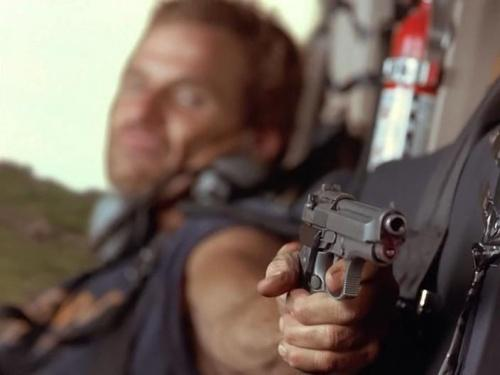Gun: (295, 184, 410, 304)
